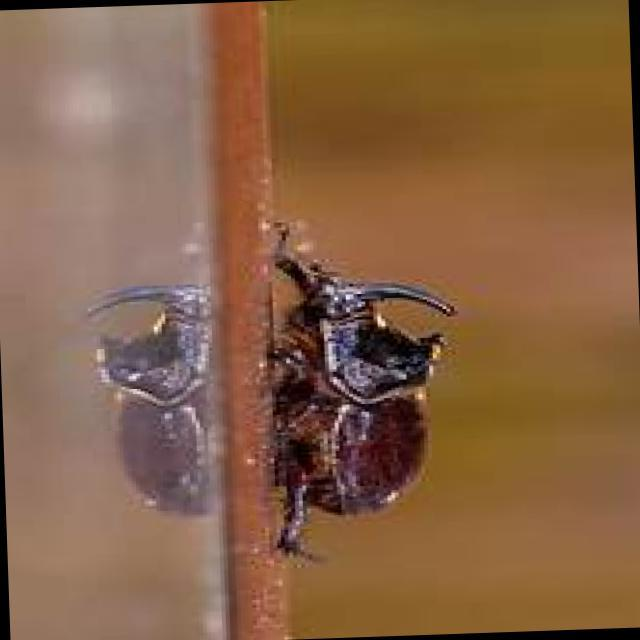Rhino-beetle: (182, 201, 488, 571)
